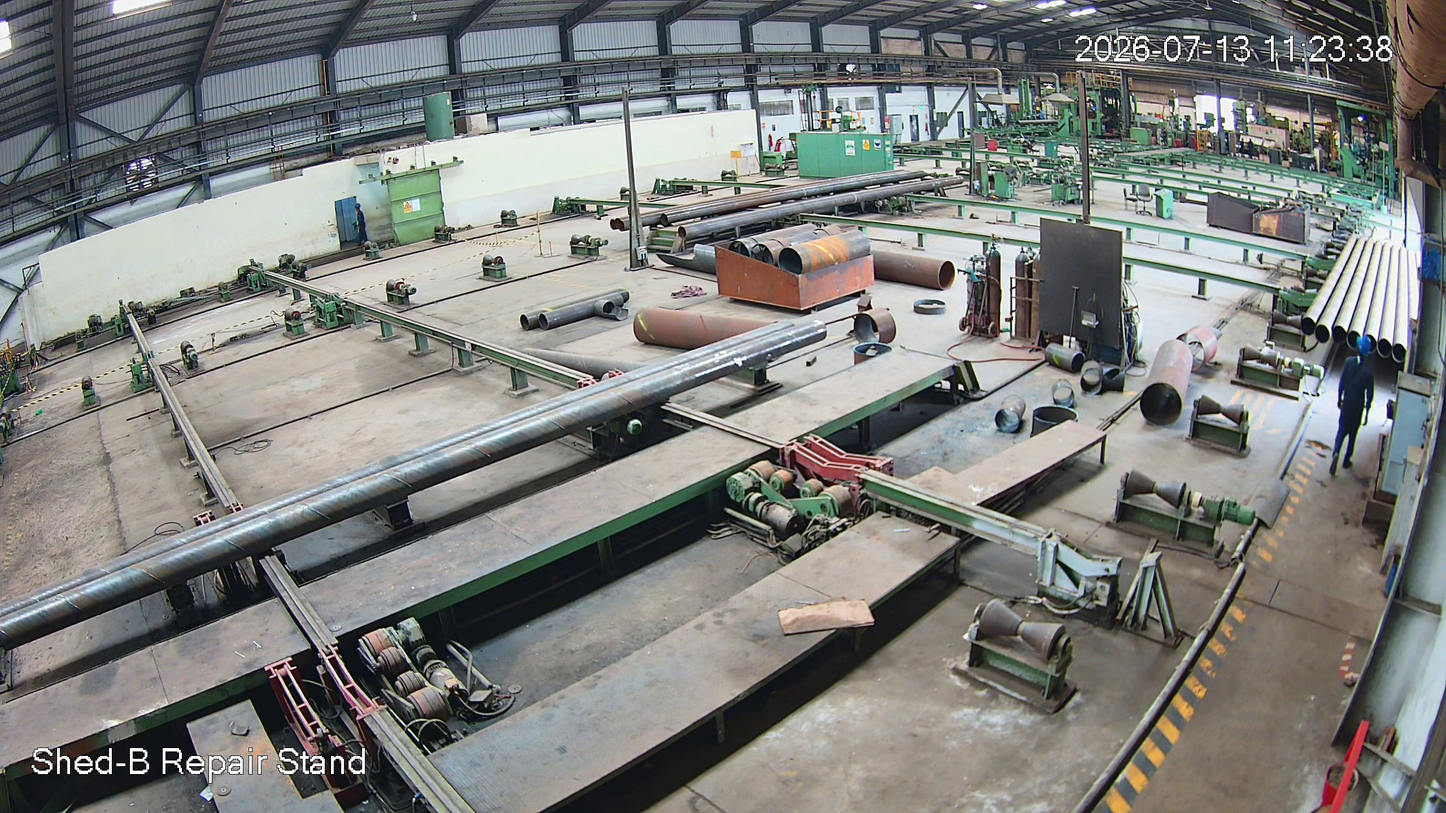Helmet: (1353, 335, 1373, 362)
Person: (1325, 337, 1379, 475)
